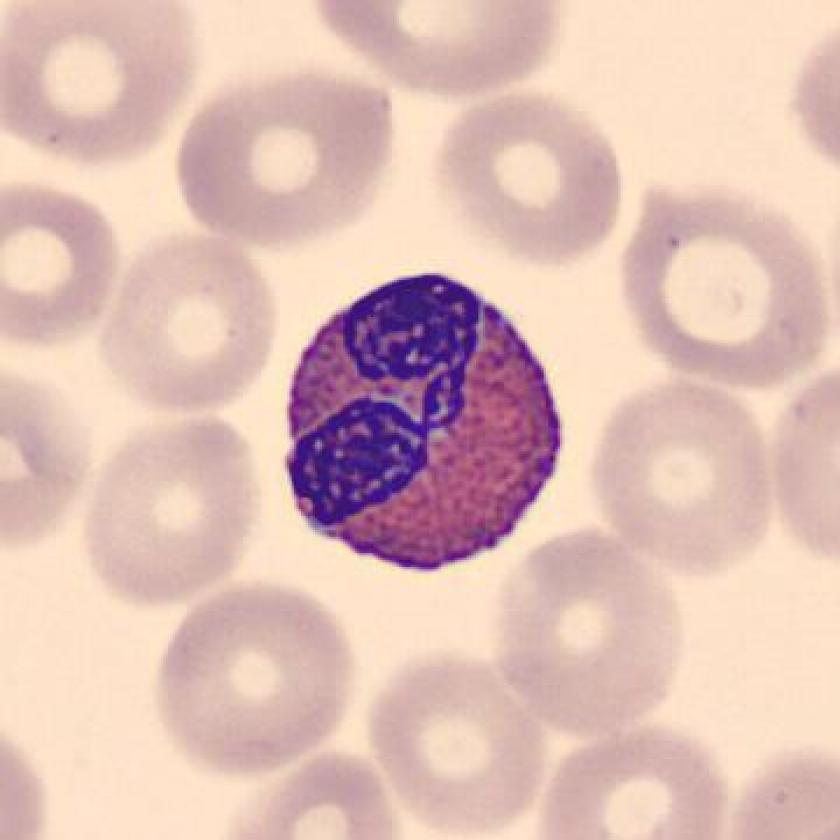eosinophil: (272, 258, 577, 584)
